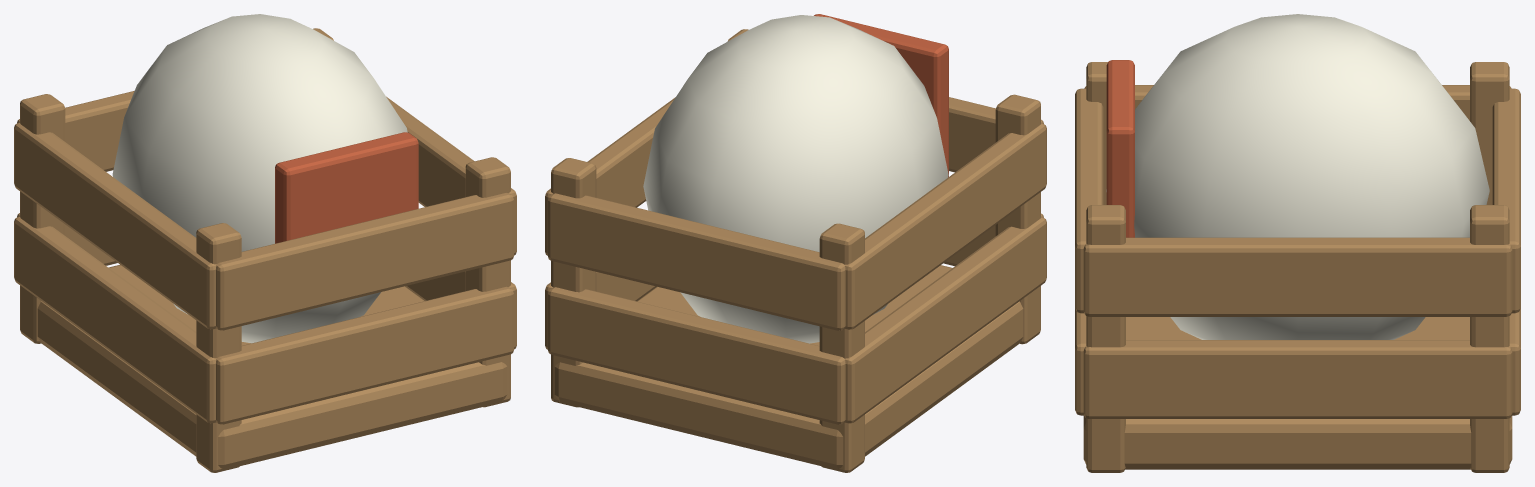
Rendered from RiceBox.fbx.
The picture shows the model from 3 angles, left to right: view 1: azimuth 30°, elevation 25°; view 2: azimuth 150°, elevation 25°; view 3: azimuth 270°, elevation 25°; orthographic projection. The views are drawn at different scales.
Parts seen in each view (by area): view 1: 采购_米面箱_米袋, 采购_米面箱_筐边.002, 采购_米面箱_筐边.006, 采购_米面箱_筐底, 采购_米面箱_筐边.004, 采购_米面箱_筐边, 采购_米面箱_米袋红标, 采购_米面箱_角, 采购_米面箱_筐边.005, 采购_米面箱_筐边.007, 采购_米面箱_角.001, 采购_米面箱_角.002 (+2 smaller); view 2: 采购_米面箱_米袋, 采购_米面箱_筐边.003, 采购_米面箱_筐边.007, 采购_米面箱_筐底, 采购_米面箱_筐边.004, 采购_米面箱_筐边, 采购_米面箱_筐边.005, 采购_米面箱_角.001, 采购_米面箱_米袋红标, 采购_米面箱_角, 采购_米面箱_角.003, 采购_米面箱_筐边.006 (+2 smaller); view 3: 采购_米面箱_米袋, 采购_米面箱_筐边.005, 采购_米面箱_筐边.001, 采购_米面箱_筐底, 采购_米面箱_角.002, 采购_米面箱_角.003, 采购_米面箱_米袋红标, 采购_米面箱_筐边.006, 采购_米面箱_筐边.007, 采购_米面箱_角.001, 采购_米面箱_角, 采购_米面箱_筐边.002 (+2 smaller).
Part boxes in pixels (x1,y1,x2,y2): 采购_米面箱_米袋: (112, 14, 407, 343); 采购_米面箱_筐边.002: (216, 286, 513, 424); 采购_米面箱_筐边.006: (216, 193, 513, 330); 采购_米面箱_筐底: (37, 265, 507, 470); 采购_米面箱_筐边.004: (14, 122, 216, 329); 采购_米面箱_筐边: (14, 216, 216, 423); 采购_米面箱_米袋红标: (275, 132, 418, 243); 采购_米面箱_角: (196, 223, 241, 472); 采购_米面箱_筐边.005: (386, 96, 516, 255); 采购_米面箱_筐边.007: (17, 91, 134, 171); 采购_米面箱_角.001: (20, 94, 65, 343); 采购_米面箱_角.002: (465, 157, 510, 407); 采购_米面箱_米袋: (643, 15, 948, 343); 采购_米面箱_筐边.003: (548, 287, 845, 424); 采购_米面箱_筐边.007: (548, 193, 845, 330); 采购_米面箱_筐底: (554, 265, 1023, 470); 采购_米面箱_筐边.004: (845, 123, 1046, 329); 采购_米面箱_筐边: (845, 217, 1046, 423); 采购_米面箱_筐边.005: (545, 97, 675, 255); 采购_米面箱_角.001: (819, 223, 864, 472); 采购_米面箱_米袋红标: (814, 14, 948, 177); 采购_米面箱_角: (995, 94, 1040, 344); 采购_米面箱_角.003: (551, 158, 596, 407); 采购_米面箱_筐边.006: (949, 97, 1043, 172); 采购_米面箱_米袋: (1106, 14, 1489, 339); 采购_米面箱_筐边.005: (1083, 237, 1512, 316); 采购_米面箱_筐边.001: (1083, 340, 1512, 418); 采购_米面箱_筐底: (1083, 317, 1512, 469); 采购_米面箱_角.002: (1086, 205, 1125, 472); 采购_米面箱_角.003: (1470, 205, 1509, 472); 采购_米面箱_米袋红标: (1106, 60, 1134, 237); 采购_米面箱_筐边.006: (1075, 88, 1103, 313); 采购_米面箱_筐边.007: (1492, 88, 1520, 313); 采购_米面箱_角.001: (1470, 62, 1509, 204); 采购_米面箱_角: (1086, 62, 1107, 204); 采购_米面箱_筐边.002: (1075, 308, 1086, 415).
Bounding box in the file's own units: 0.345 × 0.36 × 0.395.
